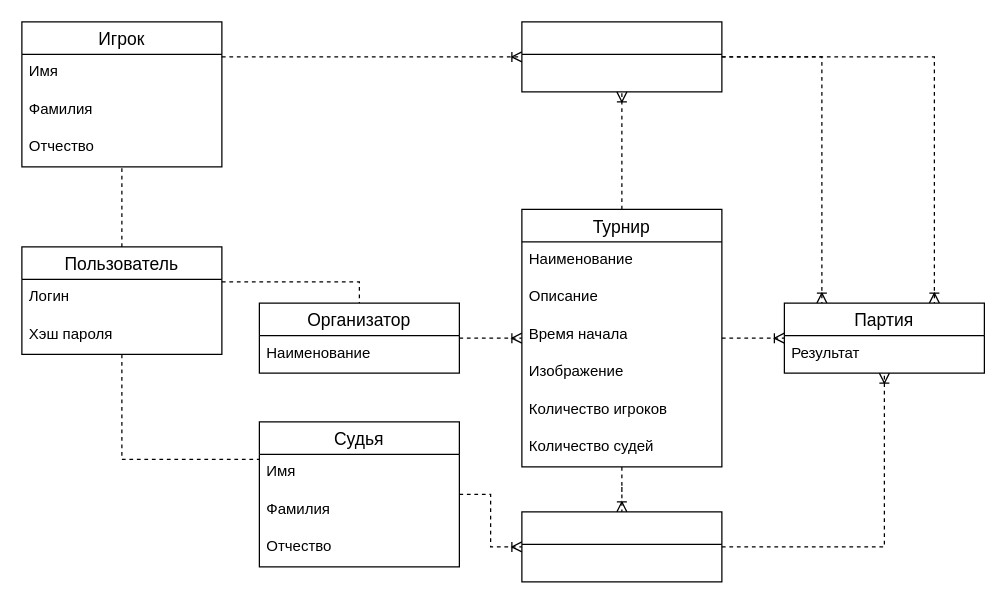
The diagram is 1006 pixels wide and 604 high, and some of its shapes have lost their labels. Each missing label, with the centre of its shape:
Судья турнира: the point at 621,546
Участник: the point at 621,56
